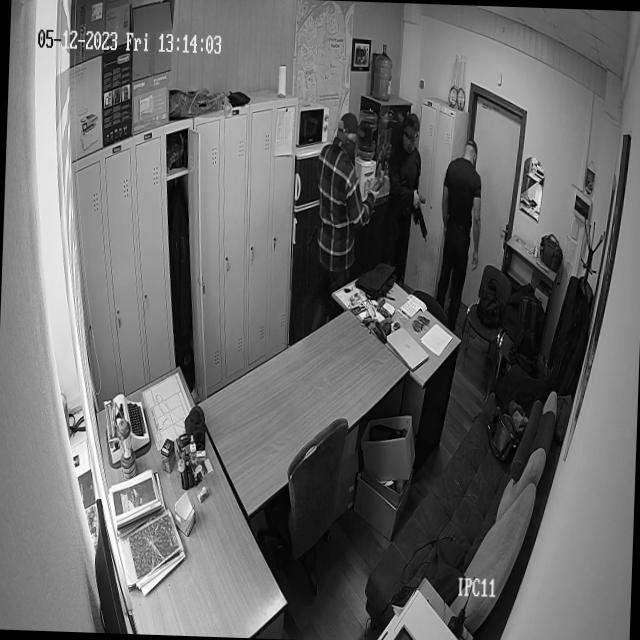gun: (404, 182, 430, 245)
person: (314, 104, 386, 256), (436, 134, 483, 298)
person with a gun: (382, 112, 434, 278)
